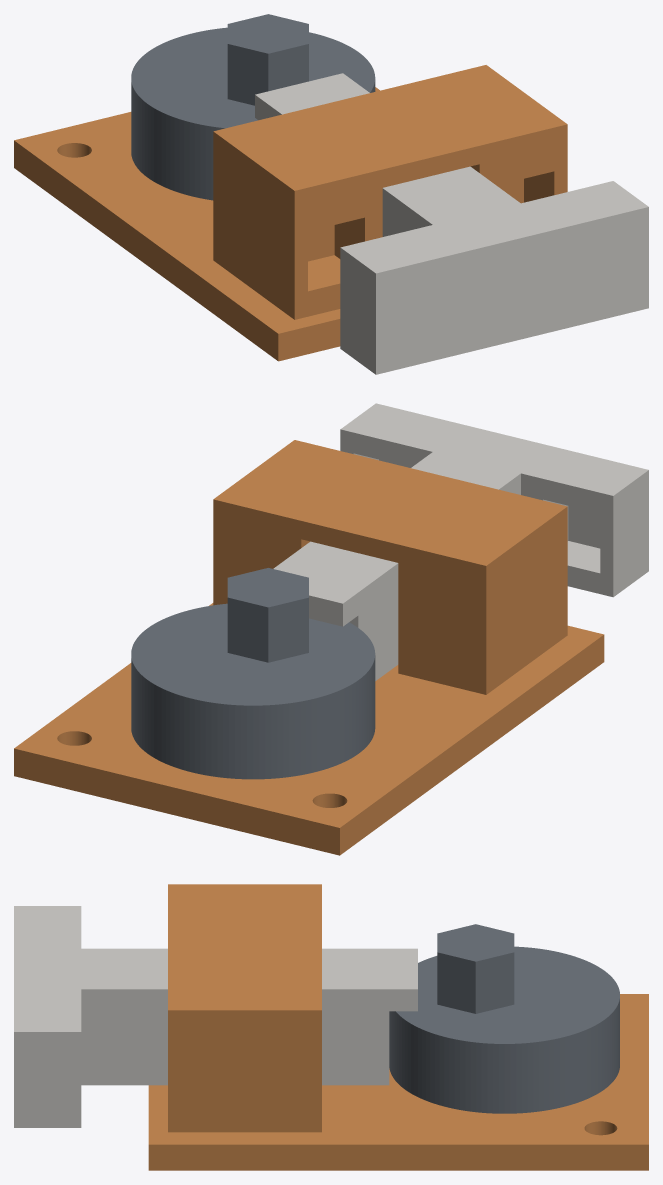
The picture shows the model from 3 angles, top to bottom: view 1: azimuth 30°, elevation 25°; view 2: azimuth 150°, elevation 25°; view 3: azimuth 270°, elevation 25°; orthographic projection. The views are drawn at different scales.
Parts seen in each view (by area): view 1: support, suiveur, came; view 2: support, came, suiveur; view 3: support, suiveur, came.
Boxes of the visible parts, bbox=[...] form: support: bbox=[14, 65, 567, 361]; suiveur: bbox=[255, 73, 648, 374]; came: bbox=[131, 14, 375, 200]; support: bbox=[14, 440, 604, 855]; came: bbox=[131, 568, 375, 779]; suiveur: bbox=[273, 403, 648, 680]; support: bbox=[148, 884, 648, 1170]; suiveur: bbox=[14, 906, 417, 1127]; came: bbox=[389, 924, 619, 1113].
Size of the model in its own units: 37 by 17.5 by 66.
